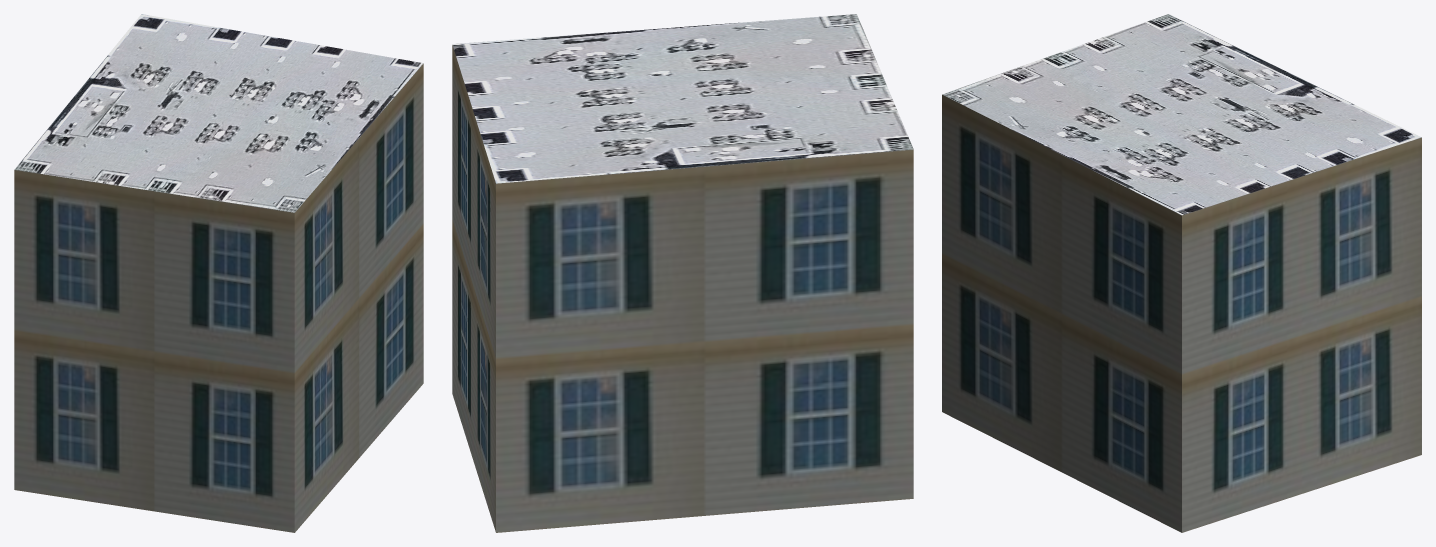
The model's file is ResTex__28.fbx.
3 views of the same model, side by side, from view 1: azimuth 30°, elevation 25°; view 2: azimuth 150°, elevation 25°; view 3: azimuth 270°, elevation 25° (orthographic). The views are drawn at different scales.
Parts seen in each view (by area): view 1: CityEngineMaterial_7_m, CityEngineMaterial_4_m; view 2: CityEngineMaterial_7_m, CityEngineMaterial_4_m; view 3: CityEngineMaterial_7_m, CityEngineMaterial_4_m.
Boxes of the visible parts, x1,y1,x2,y2 form: CityEngineMaterial_7_m: [14, 63, 423, 532]; CityEngineMaterial_4_m: [14, 14, 423, 212]; CityEngineMaterial_7_m: [452, 45, 913, 532]; CityEngineMaterial_4_m: [452, 14, 913, 183]; CityEngineMaterial_7_m: [942, 94, 1421, 532]; CityEngineMaterial_4_m: [942, 14, 1421, 215].
Size of the model in its own units: 8.16 by 6 by 8.22.
Materials: 2 (2 with a texture image).
